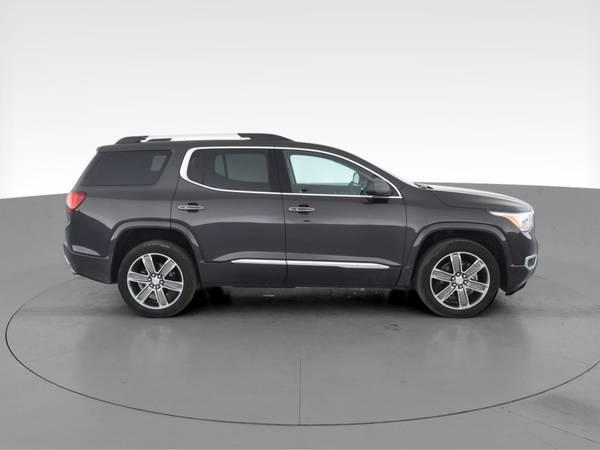Front_Bumper: (493, 228, 538, 297)
Front_Fender: (394, 186, 516, 287)
Front_Right_Door: (282, 196, 406, 288)
Front_Right_Window: (273, 144, 405, 200)
Hood: (419, 181, 533, 214)
Rear_Bumper: (63, 241, 113, 285)
Rear_Fender: (64, 142, 186, 258)
Rear_Right_Door: (169, 178, 286, 288)
Rear_Right_Window: (180, 142, 281, 198)
Right_Headlight: (489, 211, 537, 234)
Right_Taillight: (64, 191, 86, 219)
Wheel: (418, 239, 502, 318), (115, 237, 194, 318)
